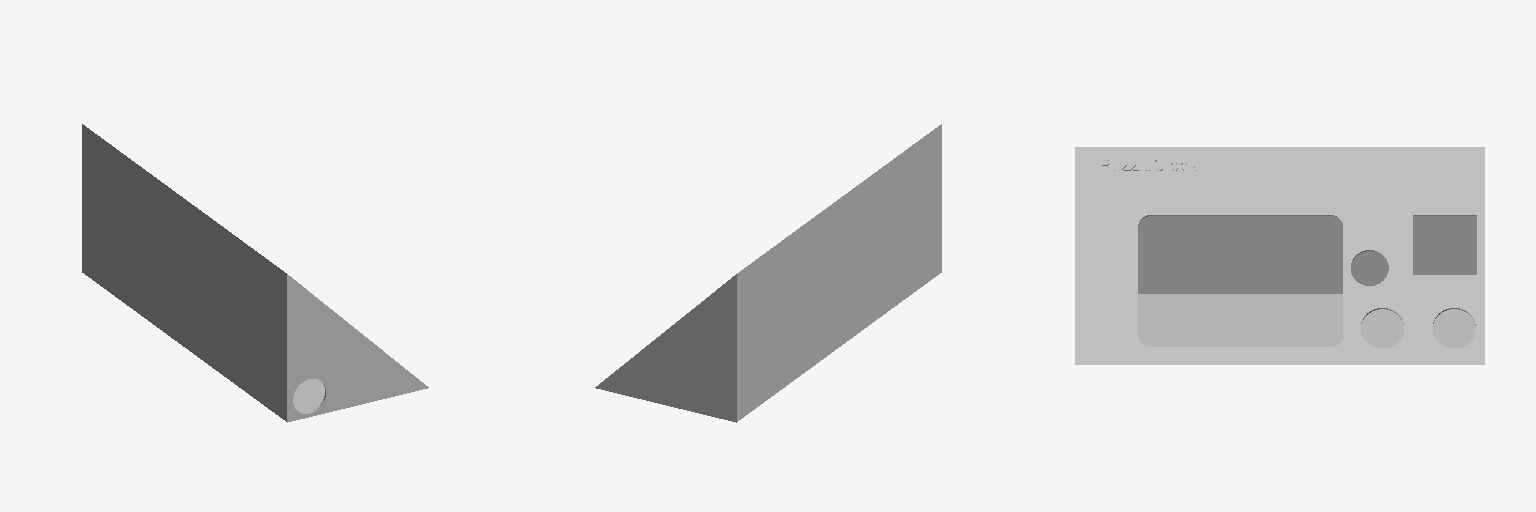
The model's file is case.obj.
3 views of the same model, side by side, from view 1: azimuth 30°, elevation 25°; view 2: azimuth 150°, elevation 25°; view 3: azimuth 270°, elevation 25° (orthographic).
Visible parts, largest first — view 1: Body1, Body3; view 2: Body1, Body2; view 3: Body1.
Boxes of the visible parts, x1=… form: Body1: x1=82, y1=124, x2=428, y2=422; Body3: x1=290, y1=281, x2=421, y2=419; Body1: x1=595, y1=124, x2=941, y2=422; Body2: x1=602, y1=281, x2=733, y2=419; Body1: x1=1075, y1=147, x2=1484, y2=364.
Size of the model in its own units: 6.4 by 6.4 by 16.